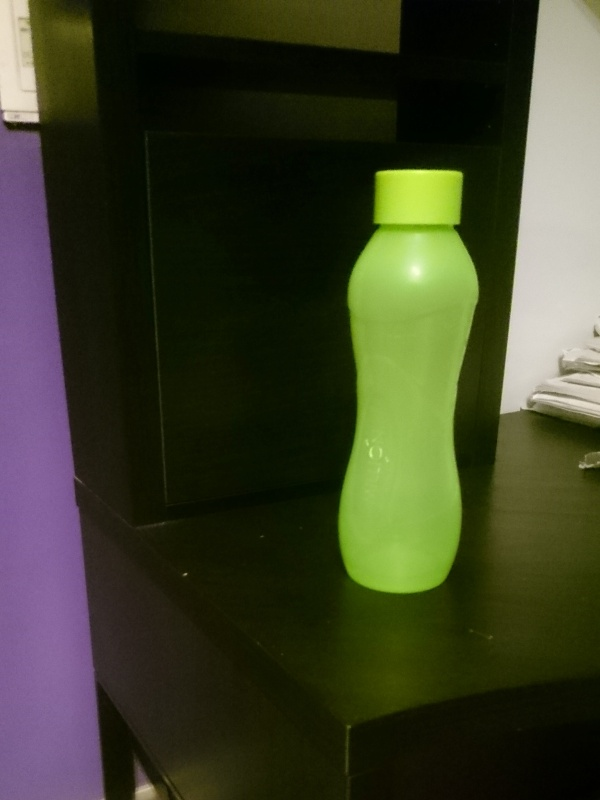my bottle: (338, 171, 479, 593)
